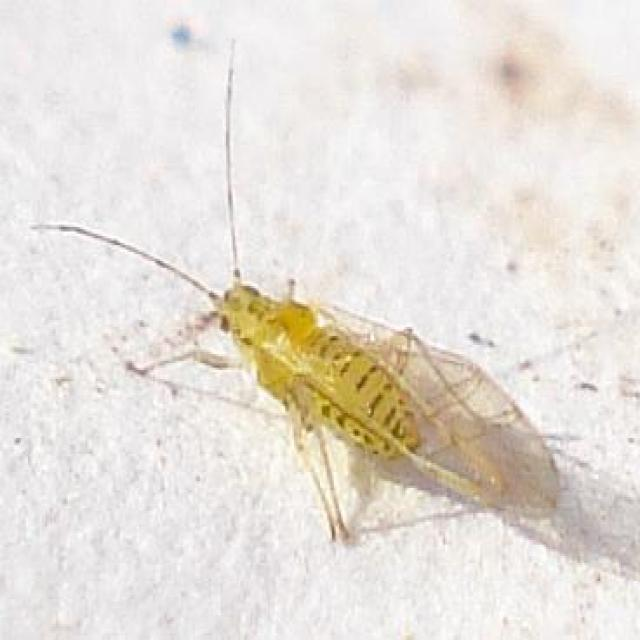Aphids: (64, 114, 592, 573)
